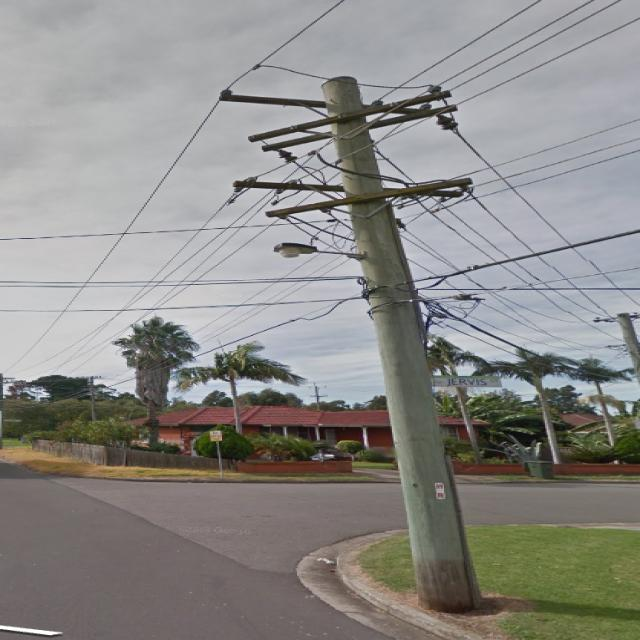HV-transmission: (218, 78, 458, 163)
crossarm: (250, 87, 447, 140), (265, 176, 473, 219), (264, 105, 454, 152), (217, 89, 441, 118), (230, 179, 459, 197), (592, 312, 638, 322)
streetlight: (271, 240, 349, 262)
timber-pole: (318, 78, 482, 608)
